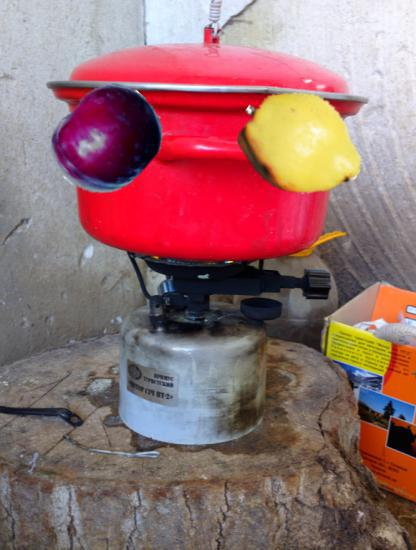Plum: (50, 83, 164, 197)
Quince: (237, 79, 366, 208)
